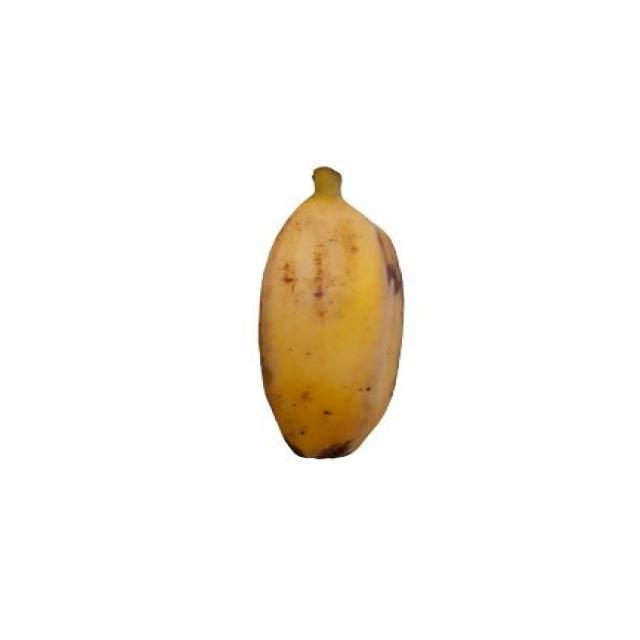banana: (248, 160, 406, 462)
